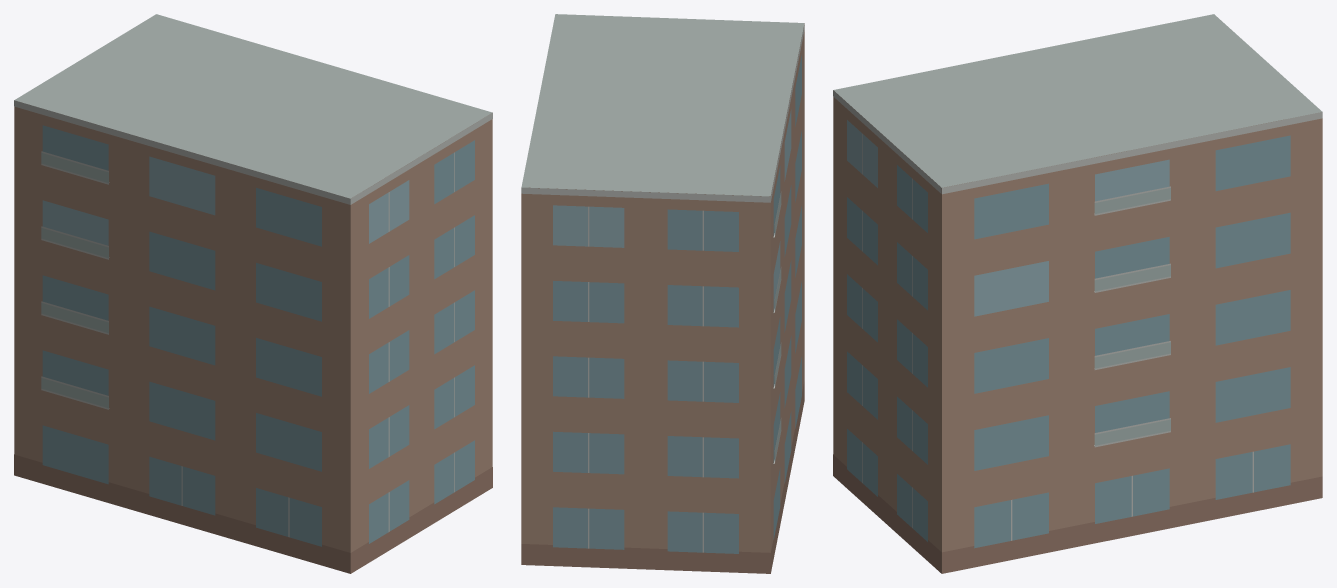
File: survey-upis-32876658.glb
3 views of the same model, side by side, from view 1: azimuth 30°, elevation 25°; view 2: azimuth 150°, elevation 25°; view 3: azimuth 270°, elevation 25° (orthographic). The views are drawn at different scales.
Visible parts, largest first — view 1: survey-upis-32876658.tmp; view 2: survey-upis-32876658.tmp; view 3: survey-upis-32876658.tmp.
Boxes of the visible parts, x1,y1,x2,y2 form: survey-upis-32876658.tmp: (14, 14, 492, 573); survey-upis-32876658.tmp: (521, 14, 804, 573); survey-upis-32876658.tmp: (833, 14, 1322, 573).
Bounding box in the file's own units: 14.11 × 14.6 × 16.79.
